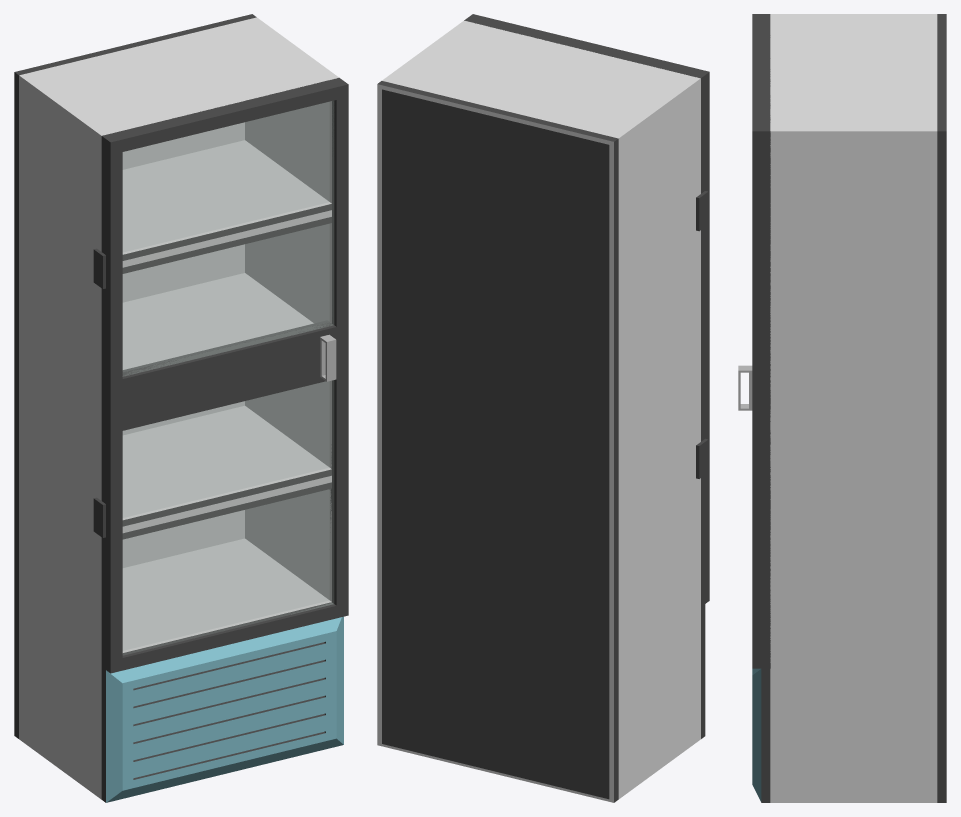
The model's file is Fridge.fbx.
The picture shows the model from 3 angles, left to right: view 1: azimuth 30°, elevation 25°; view 2: azimuth 150°, elevation 25°; view 3: azimuth 270°, elevation 25°; orthographic projection.
Parts seen in each view (by area): view 1: Fridge, Fridge Door; view 2: Fridge, Fridge Door; view 3: Fridge, Fridge Door.
Part boxes in pixels (left/top/right/bottom): Fridge: left=14, top=14, right=343, bottom=802; Fridge Door: left=93, top=77, right=348, bottom=673; Fridge: left=377, top=17, right=705, bottom=802; Fridge Door: left=465, top=14, right=709, bottom=603; Fridge: left=752, top=14, right=946, bottom=802; Fridge Door: left=738, top=14, right=770, bottom=668.
Bounding box in the file's own units: 304 × 800 × 225.
